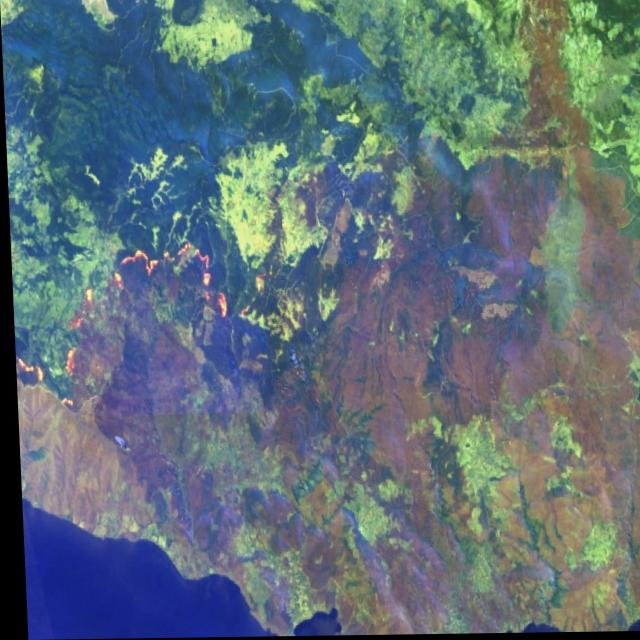fire: (7, 207, 236, 416)
